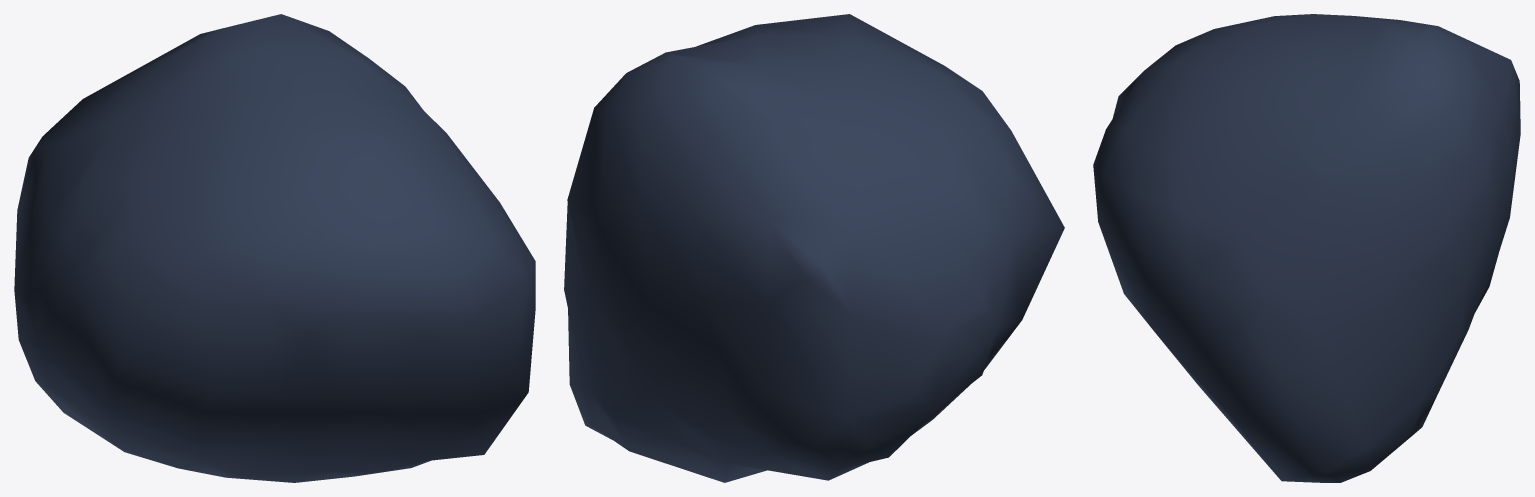
Rendered from Rock_8.fbx.
The picture shows the model from 3 angles, left to right: view 1: azimuth 30°, elevation 25°; view 2: azimuth 150°, elevation 25°; view 3: azimuth 270°, elevation 25°; orthographic projection. The views are drawn at different scales.
Parts seen in each view (by area): view 1: Rock 8; view 2: Rock 8; view 3: Rock 8.
Boxes of the visible parts, <box> form: Rock 8: <box>14,14,535,482</box>; Rock 8: <box>564,14,1064,482</box>; Rock 8: <box>1093,14,1520,482</box>.
Size of the model in its own units: 92.02 by 85.78 by 84.45.
